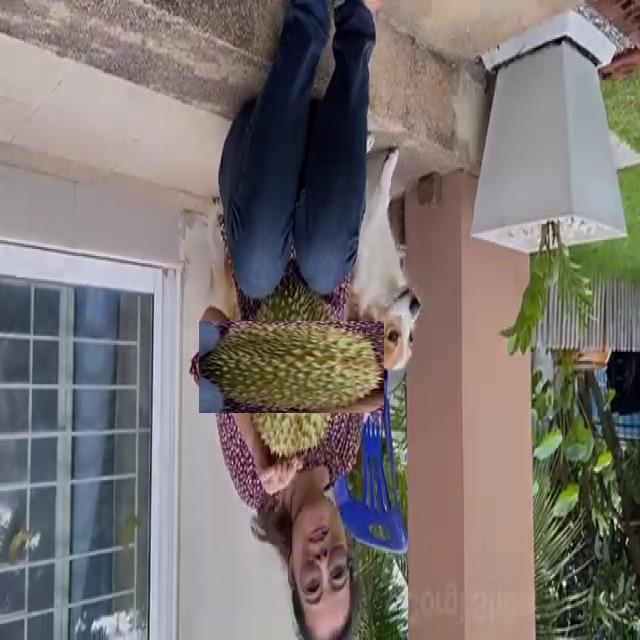durian: (222, 297, 361, 437)
